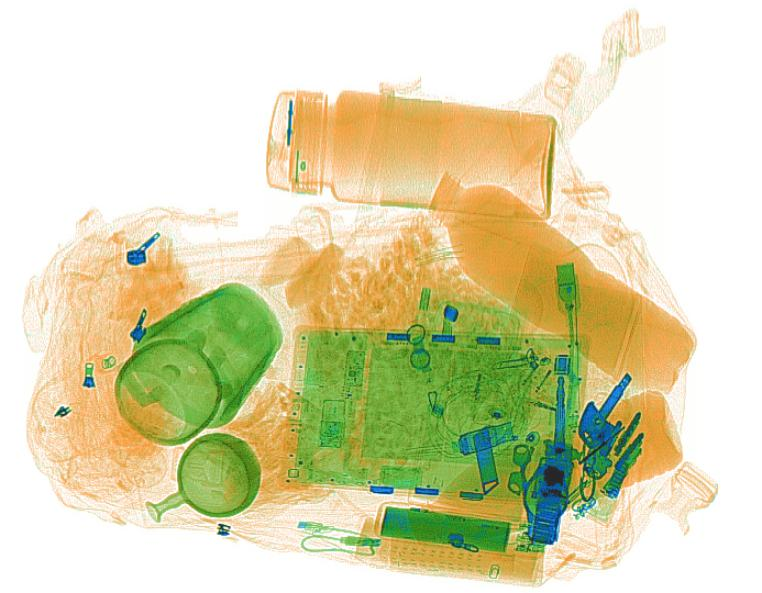USBFlashDisk: (449, 417, 516, 458)
